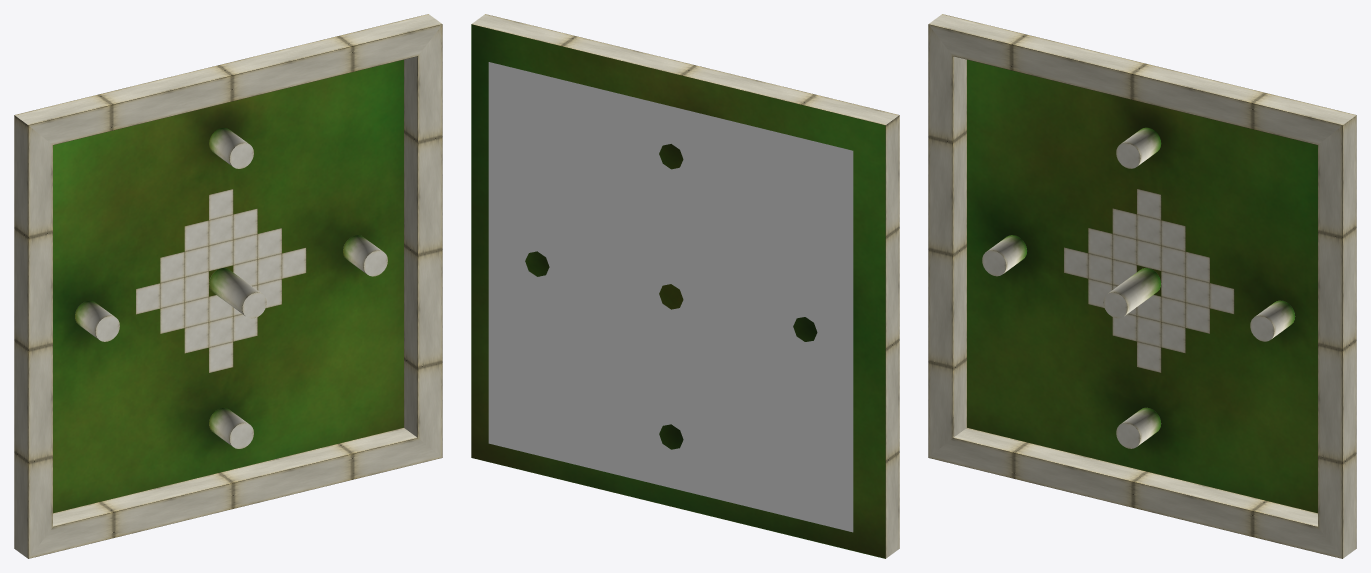
The model's file is simpleplane.obj.
3 renders of one model, left to right at view 1: azimuth 30°, elevation 25°; view 2: azimuth 150°, elevation 25°; view 3: azimuth 330°, elevation 25°, orthographic.
Visible parts, largest first — view 1: GroundPlane_~tmp-mesh, Wall_~tmp-mesh, BigCylinder_~tmp-mesh, Cylinder2_~tmp-mesh, Cylinder3_~tmp-mesh, Cylinder4_~tmp-mesh, Cylinder1_~tmp-mesh, Stone4_~tmp-mesh, Stone11_~tmp-mesh, Stone21_~tmp-mesh, Stone18_~tmp-mesh, Stone20_~tmp-mesh (+15 smaller); view 2: NaviMesh_~tmp-mesh, GroundPlane_~tmp-mesh, Wall_~tmp-mesh; view 3: GroundPlane_~tmp-mesh, Wall_~tmp-mesh, BigCylinder_~tmp-mesh, Cylinder4_~tmp-mesh, Cylinder2_~tmp-mesh, Cylinder1_~tmp-mesh, Cylinder3_~tmp-mesh, Stone2_~tmp-mesh, Stone14_~tmp-mesh, Stone23_~tmp-mesh, Stone16_~tmp-mesh, Stone6_~tmp-mesh (+15 smaller).
Boxes of the visible parts, x1,y1,x2,y2 form: GroundPlane_~tmp-mesh: [53, 59, 403, 513]; Wall_~tmp-mesh: [14, 14, 442, 558]; BigCylinder_~tmp-mesh: [209, 268, 266, 318]; Cylinder2_~tmp-mesh: [343, 235, 387, 276]; Cylinder3_~tmp-mesh: [75, 300, 119, 341]; Cylinder4_~tmp-mesh: [209, 127, 253, 168]; Cylinder1_~tmp-mesh: [209, 408, 253, 448]; Stone4_~tmp-mesh: [184, 322, 208, 353]; Stone11_~tmp-mesh: [257, 253, 281, 284]; Stone21_~tmp-mesh: [233, 208, 257, 239]; Stone18_~tmp-mesh: [209, 240, 233, 271]; Stone20_~tmp-mesh: [160, 252, 184, 282]; NaviMesh_~tmp-mesh: [488, 62, 853, 532]; GroundPlane_~tmp-mesh: [471, 24, 885, 558]; Wall_~tmp-mesh: [471, 14, 899, 558]; GroundPlane_~tmp-mesh: [967, 59, 1317, 513]; Wall_~tmp-mesh: [928, 14, 1356, 558]; BigCylinder_~tmp-mesh: [1103, 268, 1161, 318]; Cylinder4_~tmp-mesh: [1116, 127, 1161, 168]; Cylinder2_~tmp-mesh: [1250, 300, 1295, 341]; Cylinder1_~tmp-mesh: [1116, 407, 1161, 448]; Cylinder3_~tmp-mesh: [982, 235, 1026, 276]; Stone2_~tmp-mesh: [1161, 322, 1185, 353]; Stone14_~tmp-mesh: [1088, 253, 1112, 284]; Stone23_~tmp-mesh: [1112, 208, 1136, 239]; Stone16_~tmp-mesh: [1185, 251, 1209, 282]; Stone6_~tmp-mesh: [1161, 296, 1185, 327].
Bounding box in the file's own units: 17.03 × 17.03 × 2.93.
